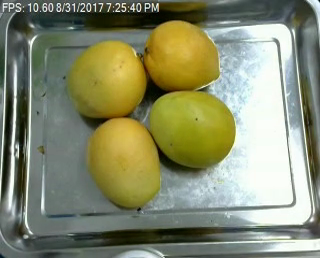Mango: (149, 89, 236, 170), (88, 118, 161, 208), (65, 38, 144, 115), (143, 20, 219, 91)
